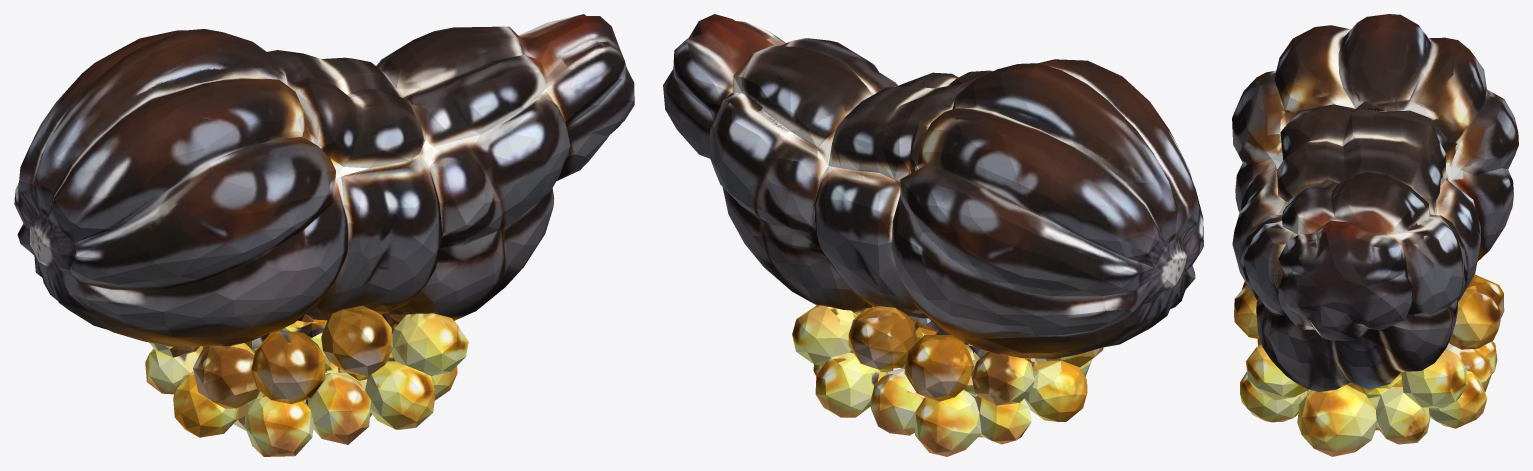
The model's file is seeder.glb.
3 renders of one model, left to right at view 1: azimuth 30°, elevation 25°; view 2: azimuth 150°, elevation 25°; view 3: azimuth 270°, elevation 25°, orthographic. The views are drawn at different scales.
Visible parts, largest first — view 1: figure; view 2: figure; view 3: figure.
Part boxes in pixels (left/top/right/bottom): figure: left=14, top=14, right=634, bottom=456; figure: left=663, top=14, right=1203, bottom=456; figure: left=1232, top=14, right=1518, bottom=456.
Size of the model in its own units: 1.47 by 1 by 0.749.
1 material, 1 textured.
